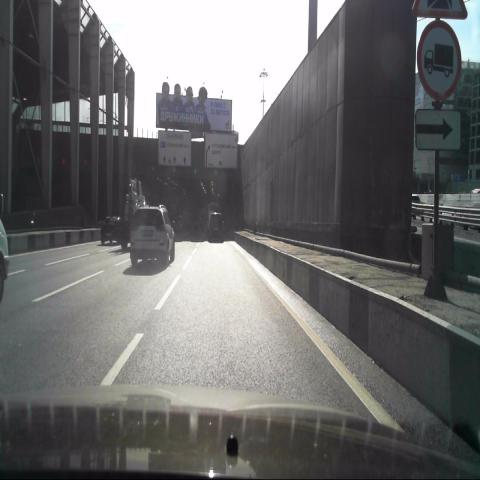8_3_1: (415, 107, 462, 151)
